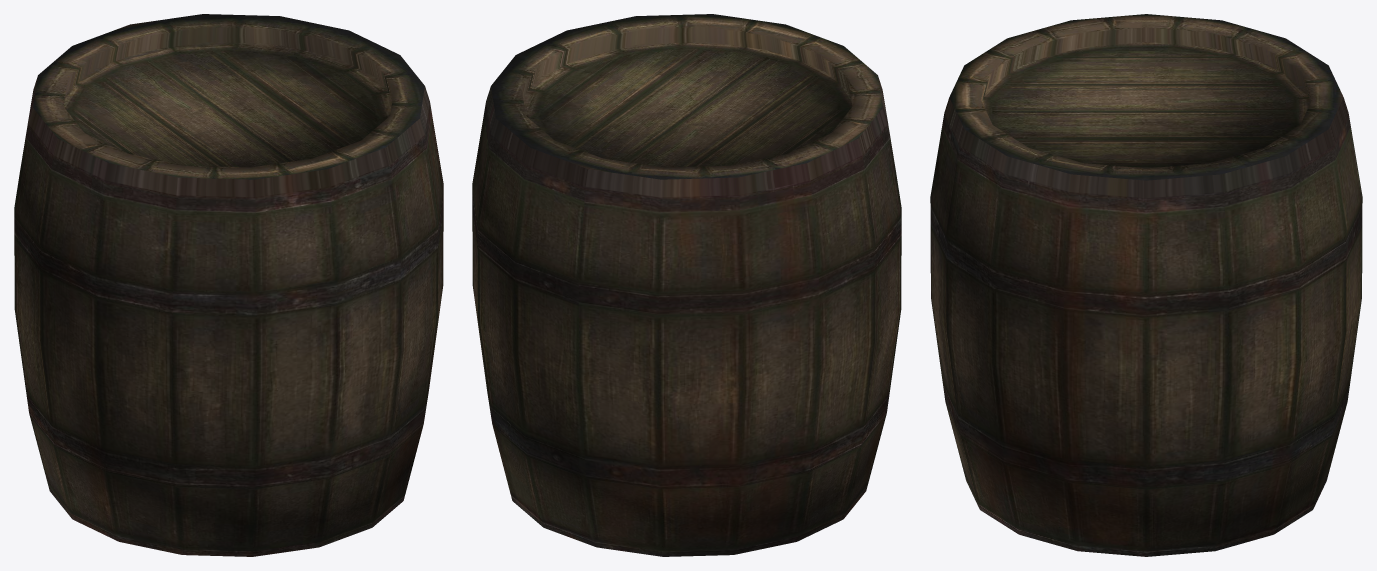
Rendered from barrilv1.fbx.
The picture shows the model from 3 angles, left to right: view 1: azimuth 30°, elevation 25°; view 2: azimuth 150°, elevation 25°; view 3: azimuth 270°, elevation 25°; orthographic projection.
Visible parts, largest first — view 1: Barril; view 2: Barril; view 3: Barril.
Part boxes in pixels (box(x1,y1,x2,y2)): Barril: box(14, 14, 443, 556); Barril: box(472, 14, 901, 556); Barril: box(930, 14, 1362, 556).
Bounding box in the file's own units: 230 × 226 × 230.
Materials: 1 (1 with a texture image).
